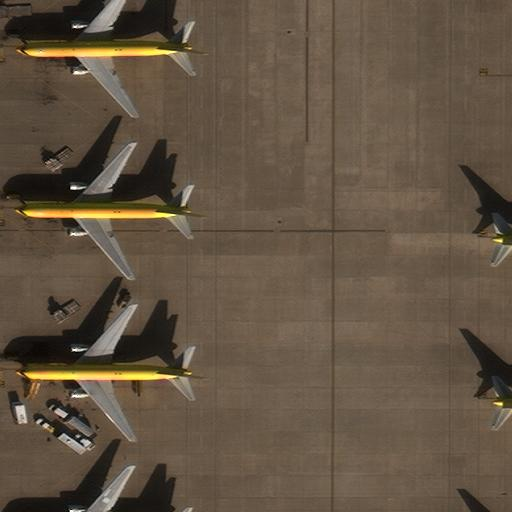Large Civil Transport: (14, 141, 189, 281), (19, 306, 191, 441), (20, 0, 192, 120), (51, 467, 166, 512)
